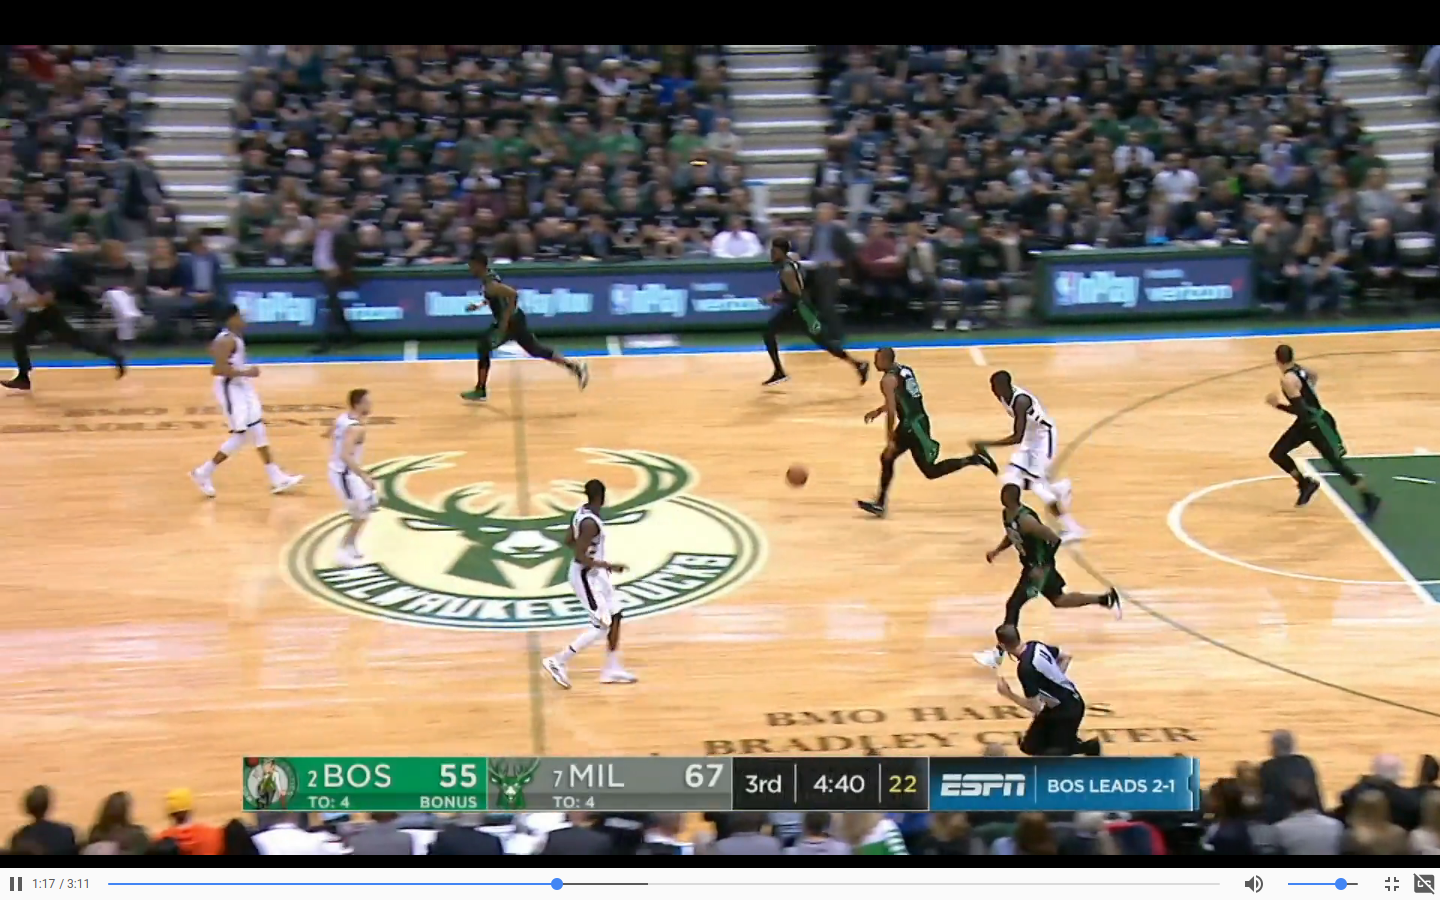basketball: (777, 452, 819, 496)
basketball player: (978, 477, 1124, 665), (179, 291, 307, 497), (855, 348, 998, 522), (1262, 339, 1385, 522), (453, 248, 588, 411), (545, 471, 639, 696), (756, 234, 875, 396), (996, 359, 1072, 552), (324, 383, 385, 562)
referee: (1, 257, 136, 396), (990, 619, 1104, 756)
